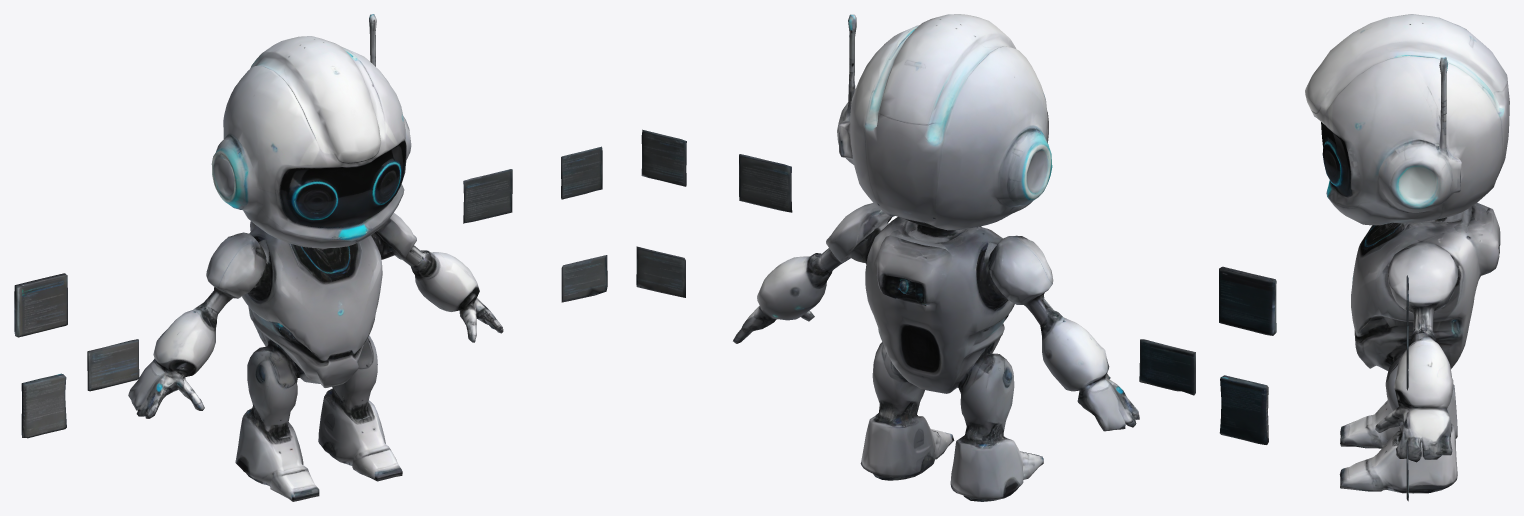
The model's file is ModelBlender_Robot.glb.
3 views of the same model, side by side, from view 1: azimuth 30°, elevation 25°; view 2: azimuth 150°, elevation 25°; view 3: azimuth 270°, elevation 25° (orthographic). The views are drawn at different scales.
Bounding box in the file's own units: 2 × 1.36 × 0.5713.
Materials: 1 (1 with a texture image).
